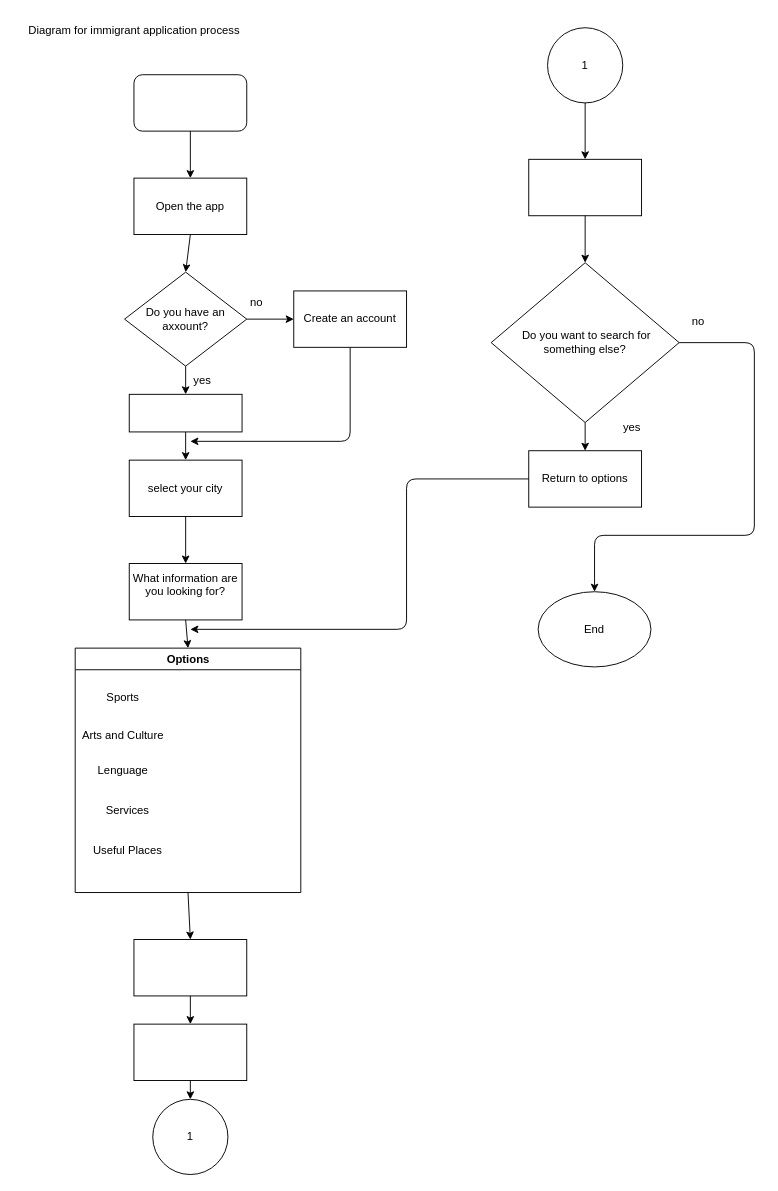
Some shapes in this 778 by 1191 pixel diagram are drawn without their labels. The centre of each missing label's shape, as x and y in pixels:
"Log in" belongs at point 185,412.
"SATRT" belongs at point 190,102.
"Select a place or activity" belongs at point 190,1052.
"Show available aoptions" belongs at point 190,967.
"Show details and locations" belongs at point 585,187.
